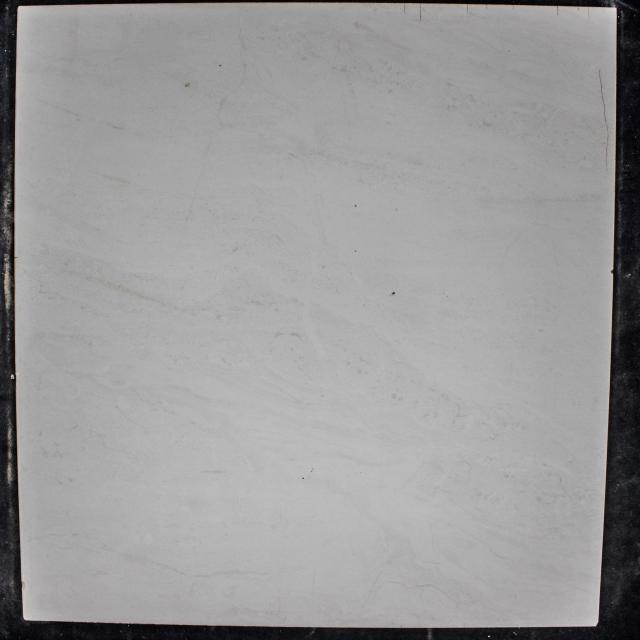hole: (390, 290, 397, 296), (218, 64, 222, 67)
line: (598, 70, 610, 172), (587, 4, 591, 20), (419, 3, 422, 20), (556, 5, 560, 17), (466, 2, 469, 14), (404, 2, 406, 15)
